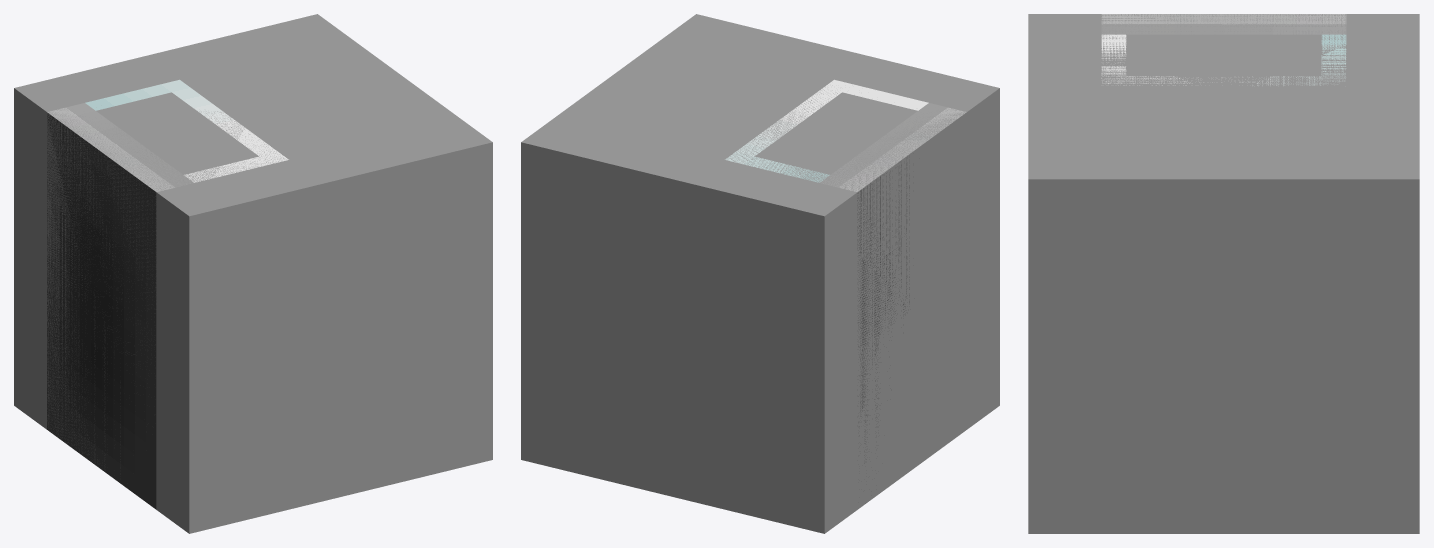
File: RelaySmall.obj
3 renders of one model, left to right at view 1: azimuth 30°, elevation 25°; view 2: azimuth 150°, elevation 25°; view 3: azimuth 270°, elevation 25°, orthographic. The views are drawn at different scales.
Visible parts, largest first — view 1: Minecraft_Block_Cube, main, Minecraft_2_Edge_Connectivity_Cube.002; view 2: Minecraft_Block_Cube, Minecraft_2_Edge_Connectivity_Cube.002, main; view 3: Minecraft_Block_Cube, Minecraft_2_Edge_Connectivity_Cube.002, main.
Part boxes in pixels (x1,y1,x2,y2): Minecraft_Block_Cube: [15, 14, 492, 533]; main: [47, 79, 288, 509]; Minecraft_2_Edge_Connectivity_Cube.002: [14, 88, 253, 533]; Minecraft_Block_Cube: [521, 14, 998, 533]; Minecraft_2_Edge_Connectivity_Cube.002: [761, 88, 999, 533]; main: [725, 79, 966, 463]; Minecraft_Block_Cube: [1028, 14, 1419, 533]; Minecraft_2_Edge_Connectivity_Cube.002: [1029, 14, 1418, 96]; main: [1101, 14, 1346, 85].
Size of the model in its own units: 1 by 1 by 1.
2 materials, 1 textured.
